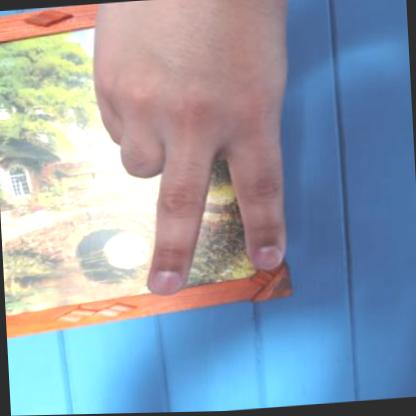N: (77, 0, 323, 324)
